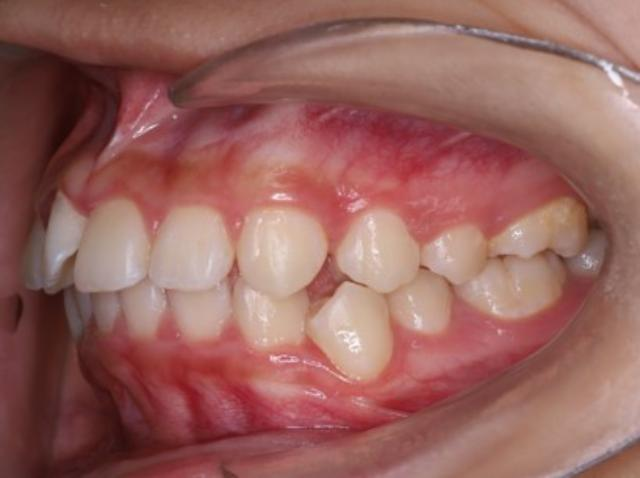canine class II 1/2: (228, 196, 392, 382)
molar class III 1/2: (455, 188, 595, 323)
